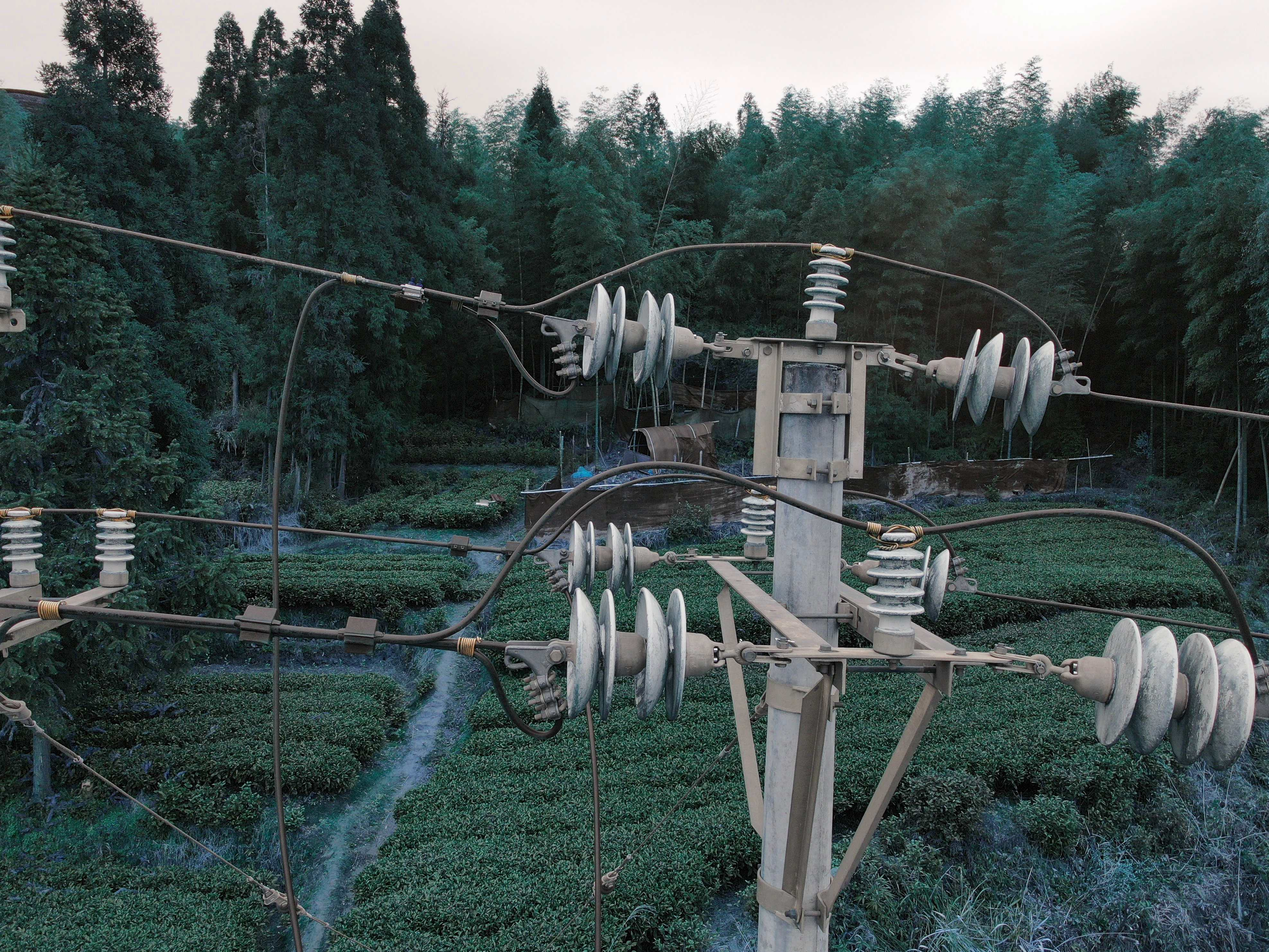severe_soiling_no_discharge_whole: (1058, 615, 1263, 771), (560, 585, 728, 720), (923, 326, 1060, 438), (574, 278, 705, 390), (864, 529, 928, 651), (565, 519, 659, 595), (798, 244, 852, 337), (93, 507, 138, 589), (2, 509, 46, 585), (912, 546, 954, 621), (738, 489, 774, 558)
